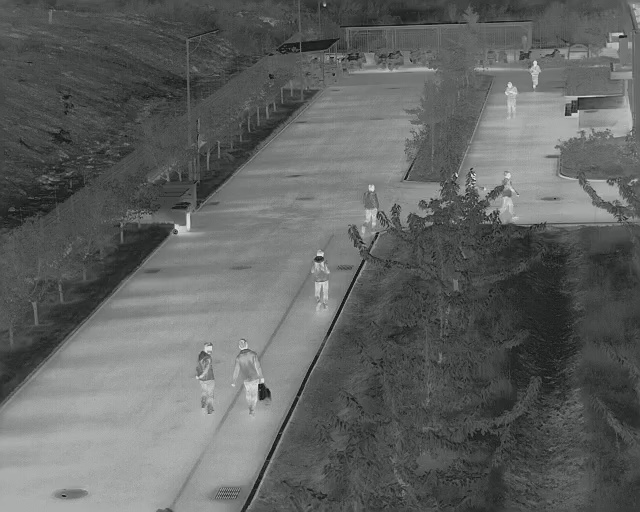person: (234, 339, 262, 413), (196, 341, 219, 413), (311, 249, 333, 311), (499, 170, 519, 219), (363, 183, 379, 230), (505, 79, 519, 121), (529, 58, 542, 88)
